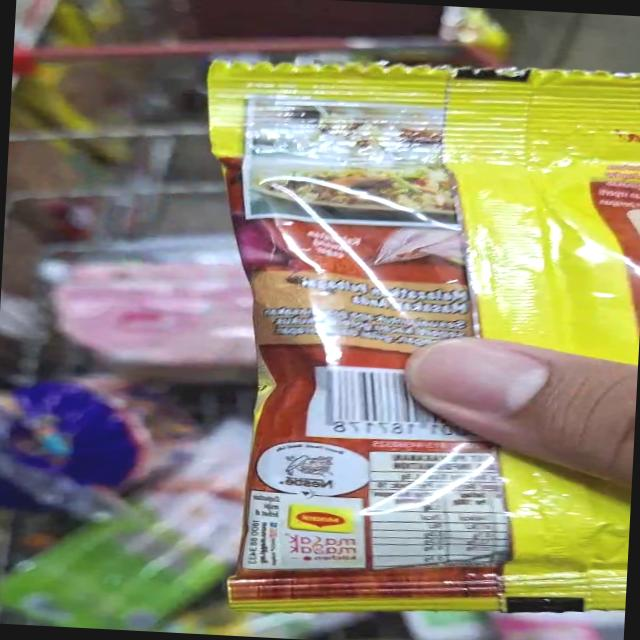Maggi Cukup Rasa: (211, 25, 640, 638)
